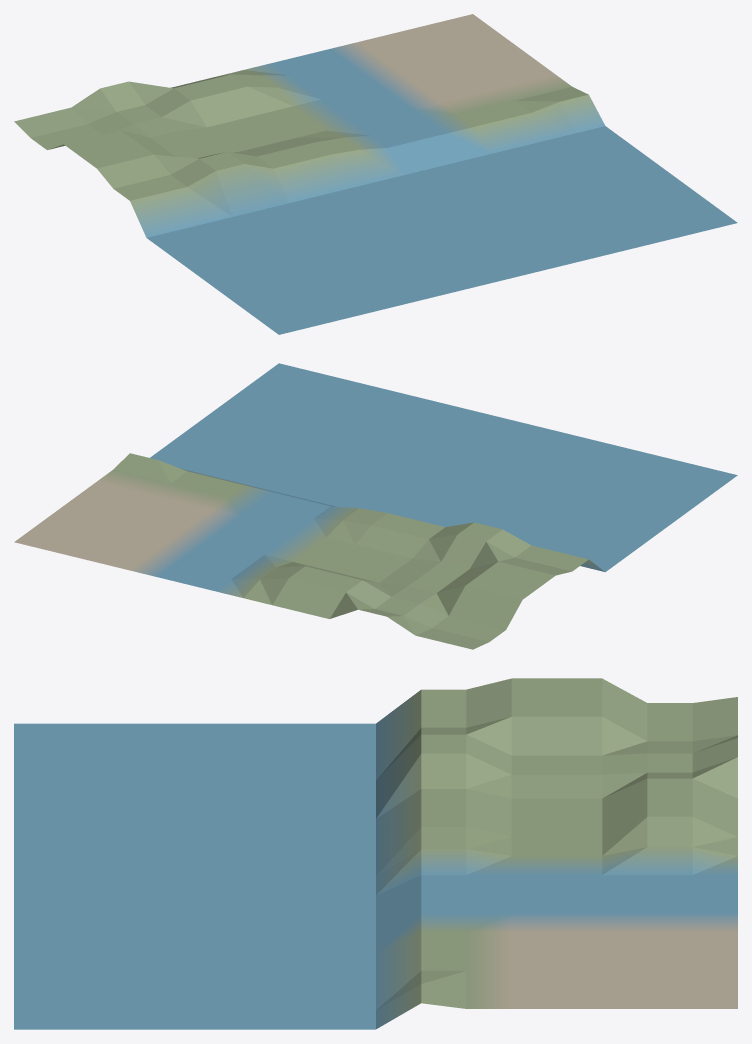
The picture shows the model from 3 angles, top to bottom: view 1: azimuth 30°, elevation 25°; view 2: azimuth 150°, elevation 25°; view 3: azimuth 270°, elevation 25°; orthographic projection. The views are drawn at different scales.
Bounding box in the file's own units: 32 × 2.26 × 32.
